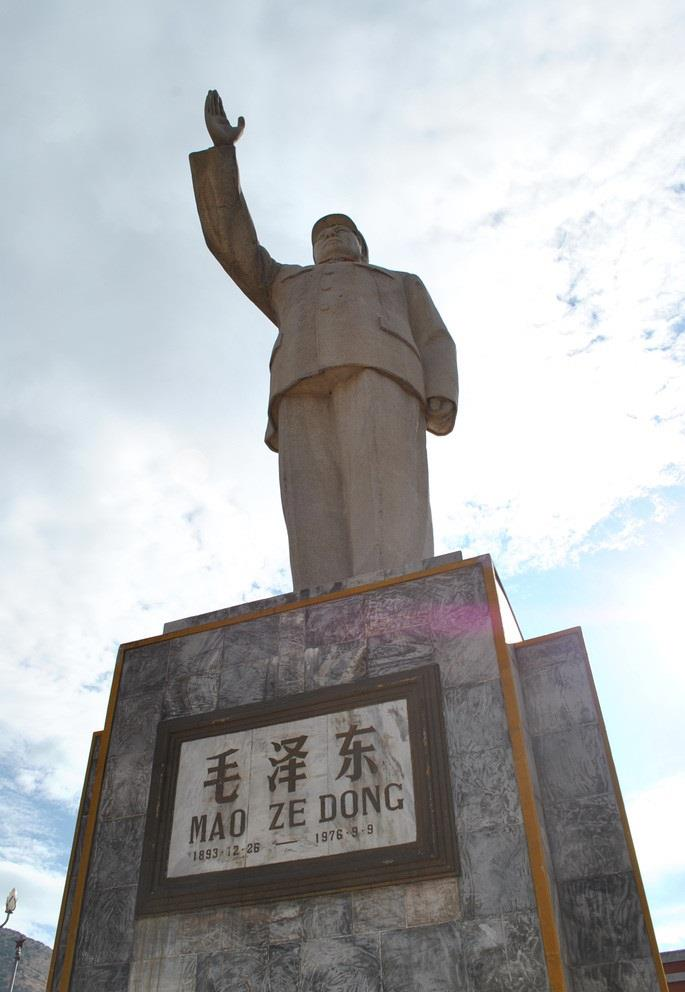Chairman_Mao_Statue: (183, 85, 466, 580)
